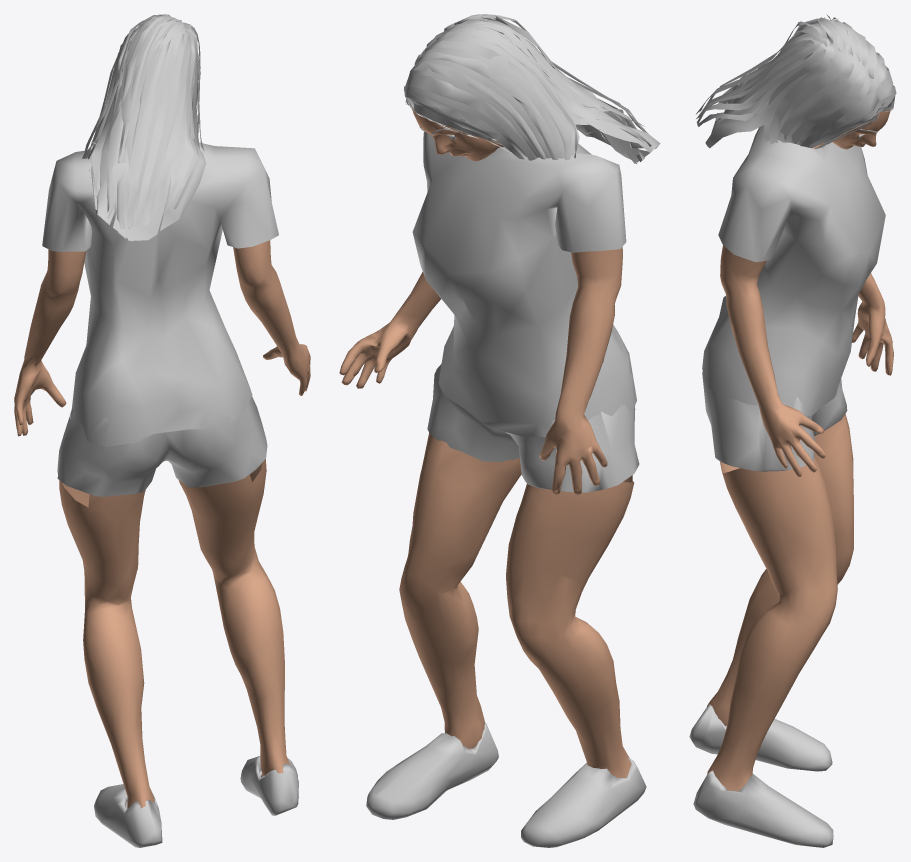
Rendered from player2att_000003.obj.
3 renders of one model, left to right at view 1: azimuth 30°, elevation 25°; view 2: azimuth 150°, elevation 25°; view 3: azimuth 270°, elevation 25°, orthographic. The views are drawn at different scales.
Visible parts, largest first — view 1: player2:tshirt02, player2:Body, player2:fhair01, player2:short01, player2:shoes02; view 2: player2:Body, player2:tshirt02, player2:fhair01, player2:shoes02, player2:short01; view 3: player2:Body, player2:tshirt02, player2:fhair01, player2:shoes02, player2:short01.
Boxes of the visible parts, bbox=[...] form: player2:tshirt02: bbox=[42, 142, 278, 446]; player2:Body: bbox=[14, 240, 310, 808]; player2:fhair01: bbox=[82, 14, 206, 241]; player2:short01: bbox=[57, 396, 267, 496]; player2:shoes02: bbox=[94, 756, 298, 847]; player2:Body: bbox=[339, 106, 634, 778]; player2:tshirt02: bbox=[412, 131, 636, 437]; player2:fhair01: bbox=[404, 14, 660, 163]; player2:shoes02: bbox=[366, 722, 646, 847]; player2:short01: bbox=[427, 364, 639, 492]; player2:Body: bbox=[707, 109, 893, 790]; player2:tshirt02: bbox=[702, 125, 885, 416]; player2:fhair01: bbox=[696, 14, 896, 148]; player2:shoes02: bbox=[689, 704, 833, 847]; player2:short01: bbox=[702, 364, 847, 471].
Bounding box in the file's own units: 5.86 × 16.25 × 3.92.
